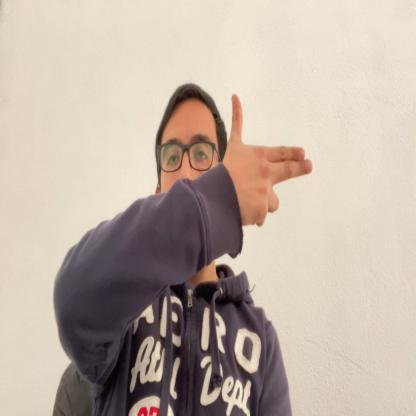H: (227, 89, 314, 227)
